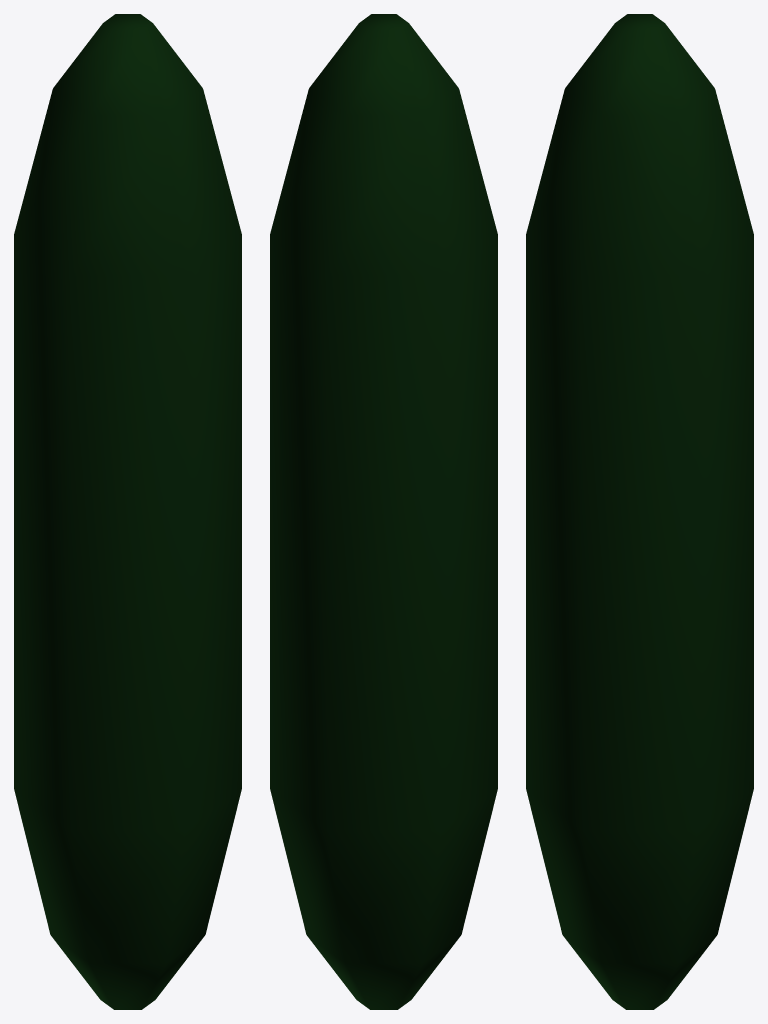
Rendered from Cucumber.obj.
3 renders of one model, left to right at view 1: azimuth 30°, elevation 25°; view 2: azimuth 150°, elevation 25°; view 3: azimuth 270°, elevation 25°, orthographic.
Visible parts, largest first — view 1: avocado; view 2: avocado; view 3: avocado.
Part boxes in pixels (<box>): avocado: <box>14,14,241,1009</box>; avocado: <box>270,14,497,1009</box>; avocado: <box>526,14,753,1009</box>.
Bounding box in the file's own units: 0.0913 × 0.4982 × 0.1054.
